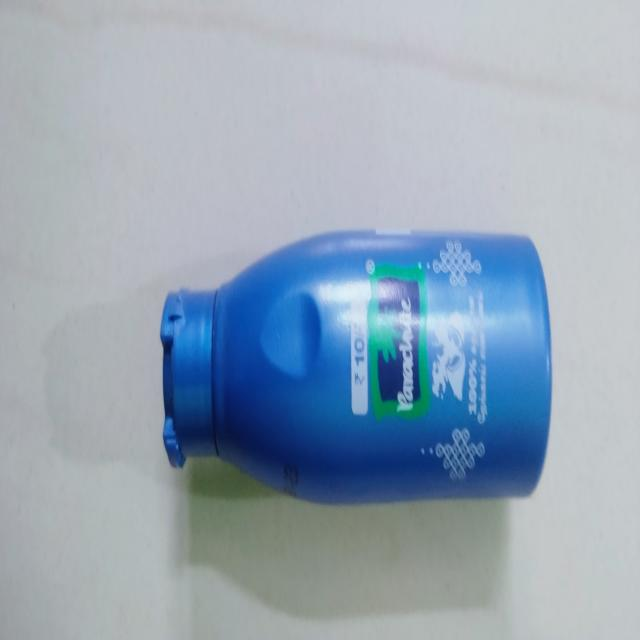oil: (149, 230, 561, 494)
